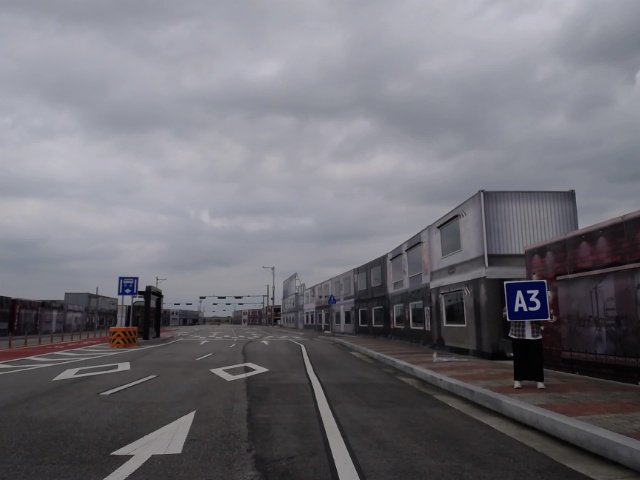delivery_a3: (505, 280, 550, 321)
